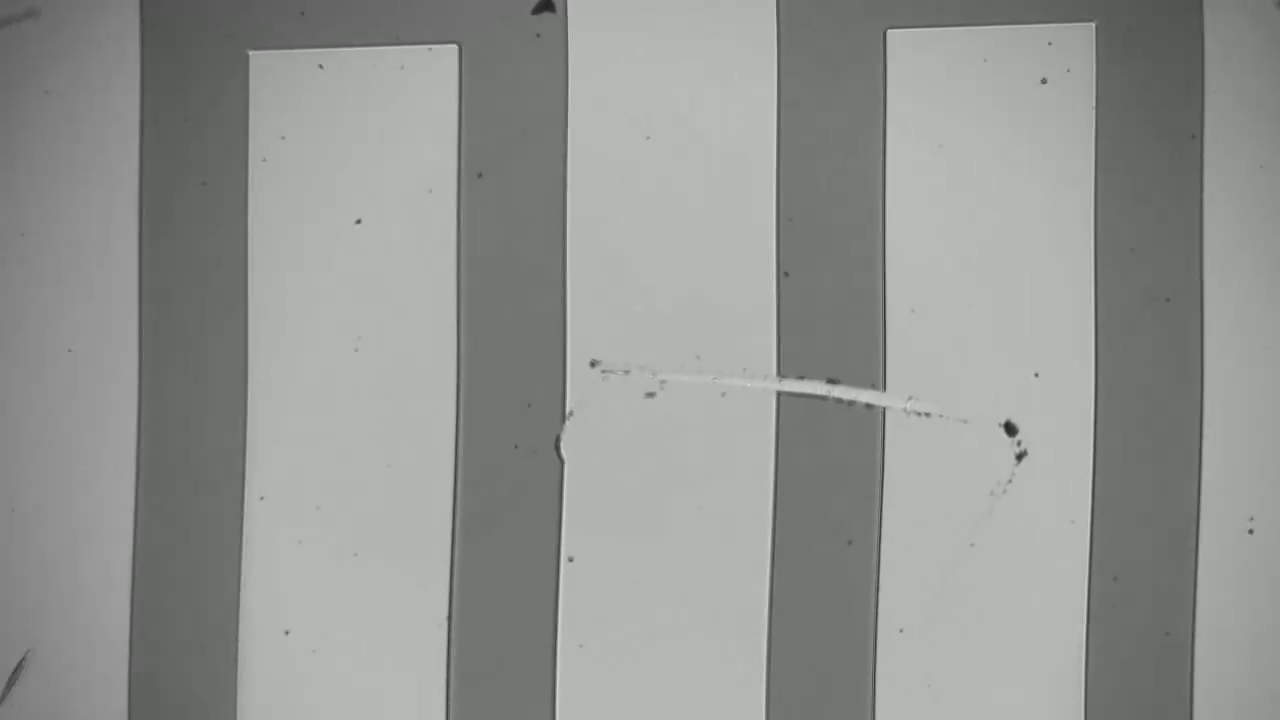stains_enbedded: (752, 344, 917, 445)
